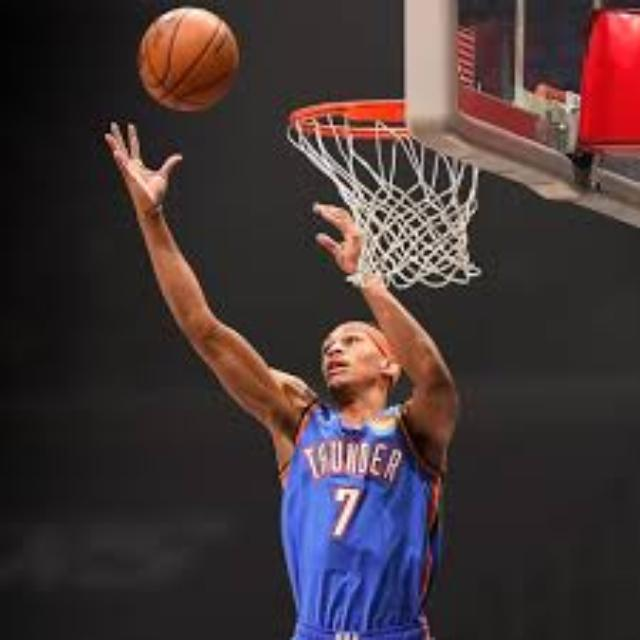basketball: (139, 9, 237, 111)
rim: (109, 126, 454, 640), (288, 100, 478, 284)
